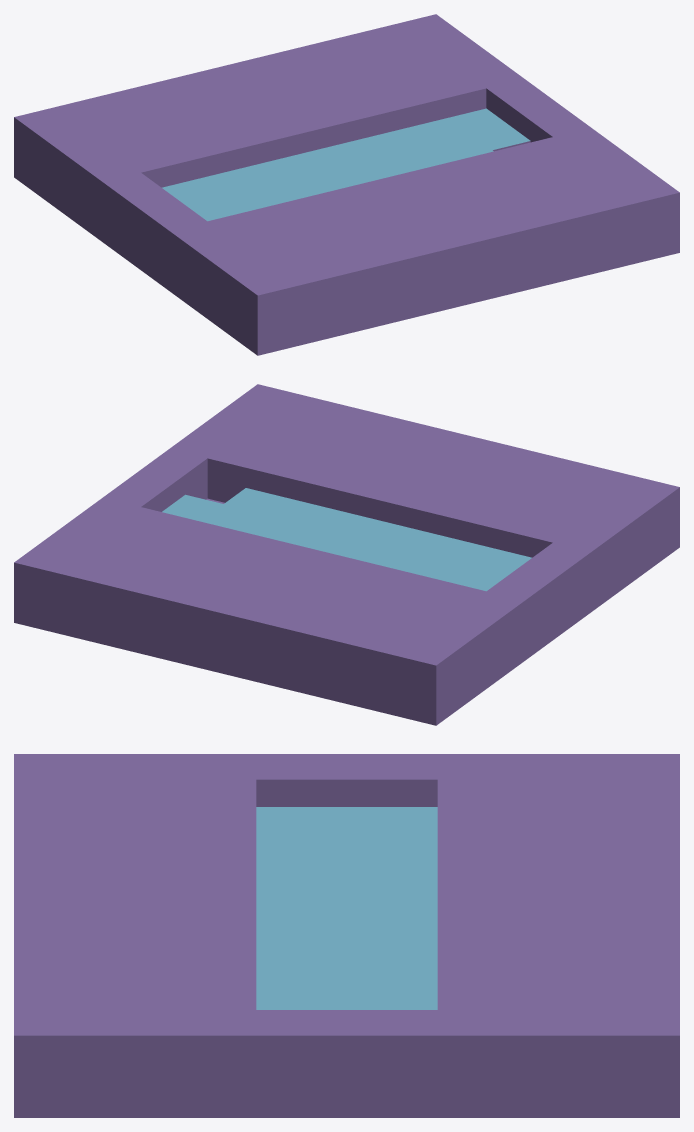
The model's file is 001_platform.fbx.
3 views of the same model, one above another, from view 1: azimuth 30°, elevation 25°; view 2: azimuth 150°, elevation 25°; view 3: azimuth 270°, elevation 25° (orthographic). The views are drawn at different scales.
Visible parts, largest first — view 1: Plane; view 2: Plane; view 3: Plane.
Part boxes in pixels (box(x1,y1,x2,y2)): Plane: box(14, 14, 679, 355); Plane: box(14, 384, 679, 725); Plane: box(14, 754, 679, 1117).
Bounding box in the file's own units: 1100 × 150 × 1100.
